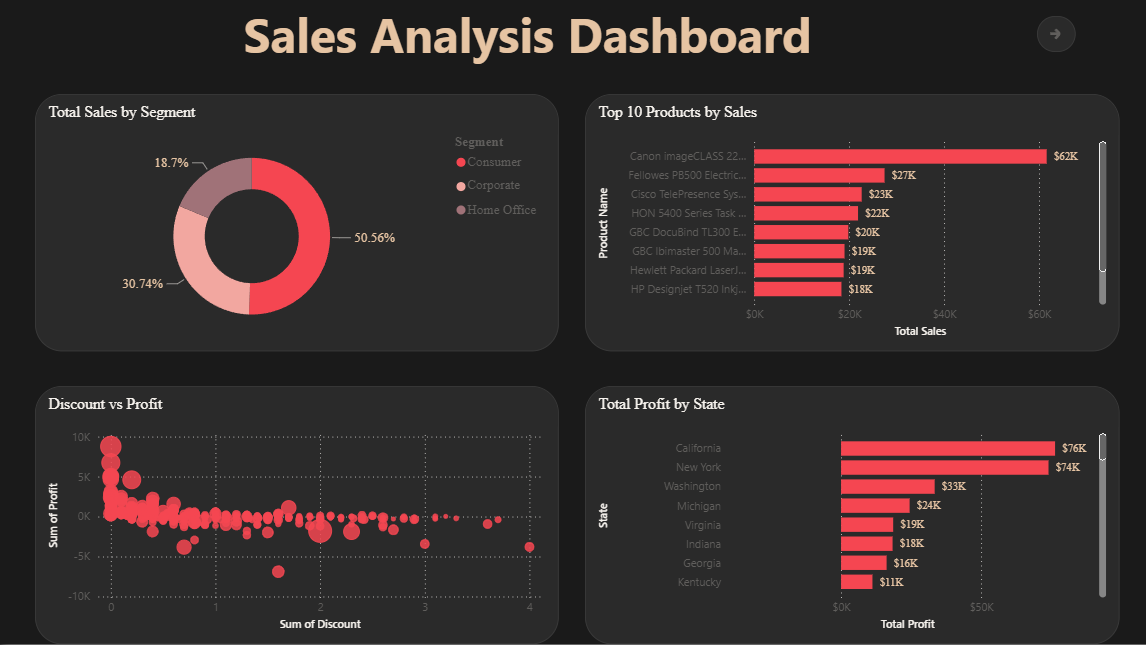

The page's visual inventory and layout, read from the dashboard file:
{"tool":"powerbi","page":{"name":"Page 2","canvas":[1280,720],"ordinal":1},"visuals":[{"type":"donutChart","fields":{"Category":["superstore_cleaned.Segment"],"Y":["superstore_cleaned.Total Sales"]},"box":[38.9,108.9,581.6,286],"z":0},{"type":"scatterChart","title":"Discount vs Profit","fields":{"Size":["superstore_cleaned.Total Sales"],"X":["Sum(superstore_cleaned.Discount)"],"Y":["Sum(superstore_cleaned.Profit)"],"Category":["superstore_cleaned.Order ID"]},"box":[38.9,432.8,581.6,286.9],"z":1000},{"type":"clusteredBarChart","title":"Top 10 Products by Sales","fields":{"Y":["superstore_cleaned.Total Sales"],"Category":["superstore_cleaned.Product Name"]},"box":[649.7,108.9,594.3,286],"z":2000},{"type":"clusteredBarChart","fields":{"Y":["superstore_cleaned.Total Profit"],"Category":["superstore_cleaned.State"]},"box":[649.7,432.8,594.3,286.9],"z":3000},{"type":"textbox","box":[265.5,0,710,82.7],"z":4000},{"type":"actionButton","box":[1152.5,22.5,42.5,40],"z":4001}]}

Visuals, with their boxes in screenshot pixels (x1, y1, x2, y2), scaled from the page's 1280x720 canvas onto the 1146x645 screenshot:
donutChart - superstore_cleaned.Segment x superstore_cleaned.Total Sales: region(35, 98, 556, 354)
"Discount vs Profit" scatterChart: region(35, 388, 556, 644)
"Top 10 Products by Sales" clusteredBarChart: region(582, 98, 1114, 354)
clusteredBarChart - superstore_cleaned.Total Profit x superstore_cleaned.State: region(582, 388, 1114, 644)
textbox: region(238, 0, 873, 74)
actionButton: region(1032, 20, 1070, 56)
